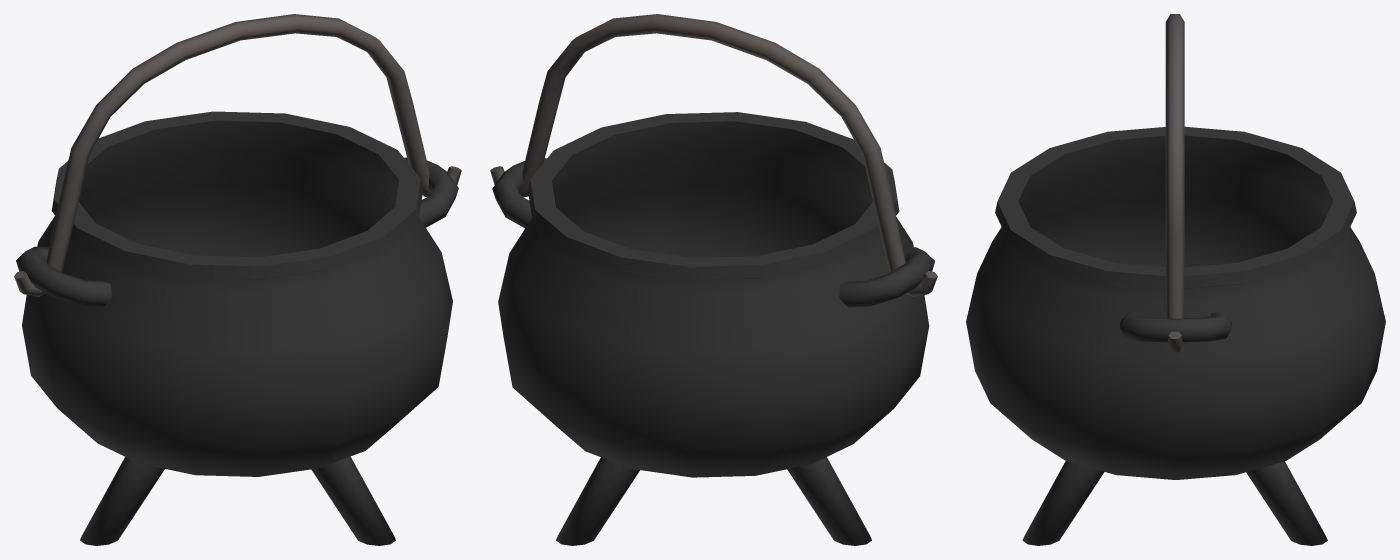
File: CauldronWithLegs.fbx
The picture shows the model from 3 angles, left to right: view 1: azimuth 30°, elevation 25°; view 2: azimuth 150°, elevation 25°; view 3: azimuth 270°, elevation 25°; orthographic projection. The views are drawn at different scales.
Visible parts, largest first — view 1: CauldronWithLegs, CauldronWithLegs_Handle; view 2: CauldronWithLegs, CauldronWithLegs_Handle; view 3: CauldronWithLegs, CauldronWithLegs_Handle.
Boxes of the visible parts, left/top/right/bottom form: CauldronWithLegs: left=16, top=111, right=458, bottom=545; CauldronWithLegs_Handle: left=14, top=14, right=461, bottom=296; CauldronWithLegs: left=492, top=112, right=934, bottom=545; CauldronWithLegs_Handle: left=490, top=14, right=937, bottom=296; CauldronWithLegs: left=966, top=126, right=1385, bottom=545; CauldronWithLegs_Handle: left=1165, top=14, right=1184, bottom=352.
Bounding box in the file's own units: 71.73 × 74.16 × 60.81.
